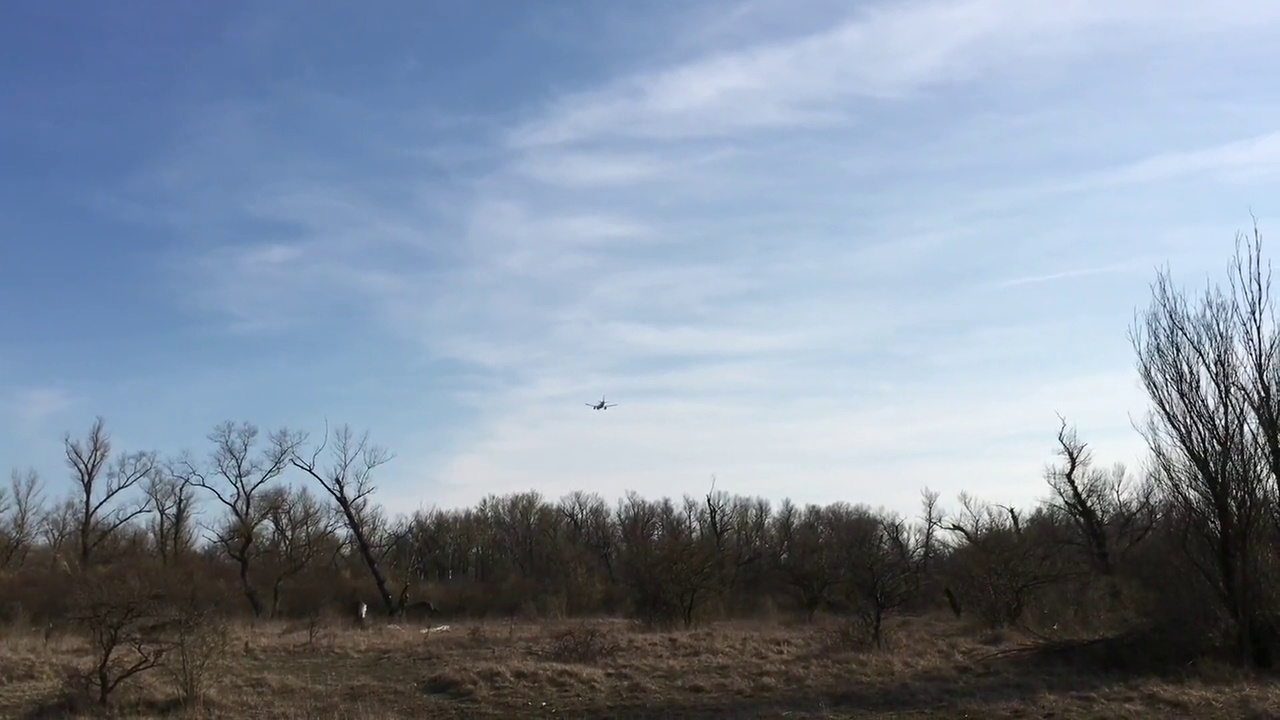plane: (585, 394, 616, 410)
